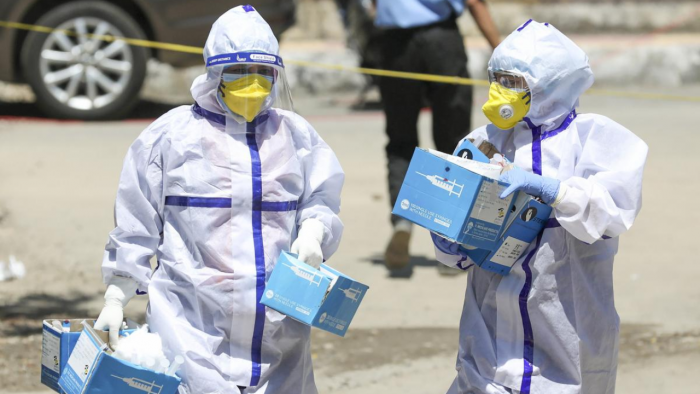Coverall: (116, 1, 340, 394), (459, 24, 624, 394)
Gloves: (96, 278, 138, 353), (494, 155, 554, 205), (291, 223, 326, 274)
with_mask: (224, 77, 276, 123), (480, 81, 529, 128)
